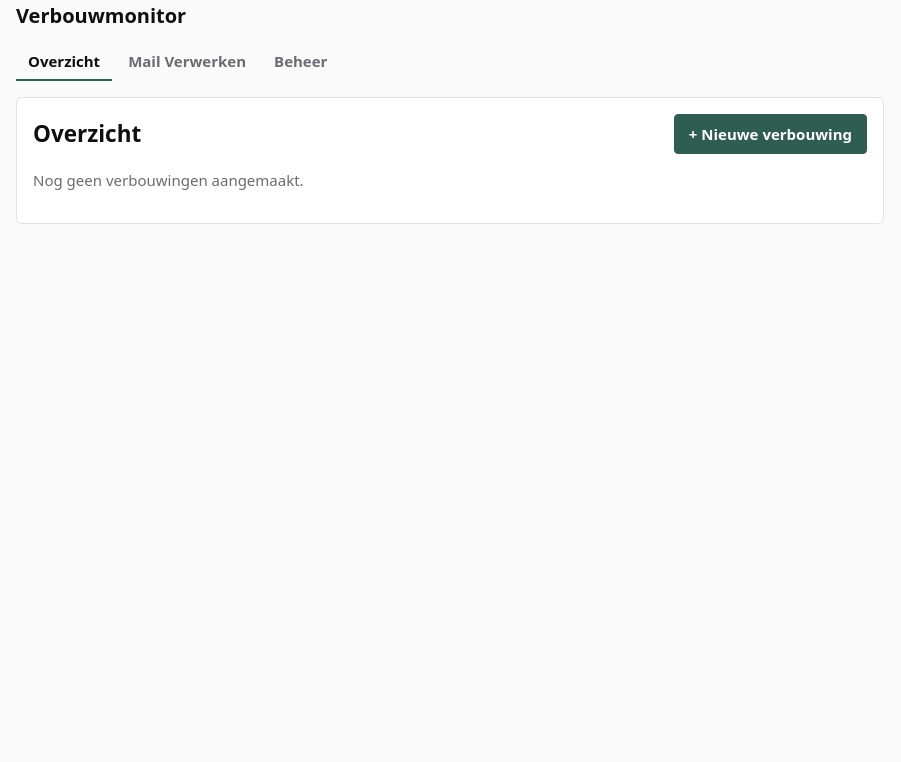
Scenario: App — polish: verwijderen in Beheer vraagt eerst bevestiging › annuleren laat de activiteit staan; bevestigen verwijdert hem echt
The width and height of the screenshot is (901, 762).
Click the button "beheer".
click(301, 63)  # box [262,44,339,81]
(page scrolled)
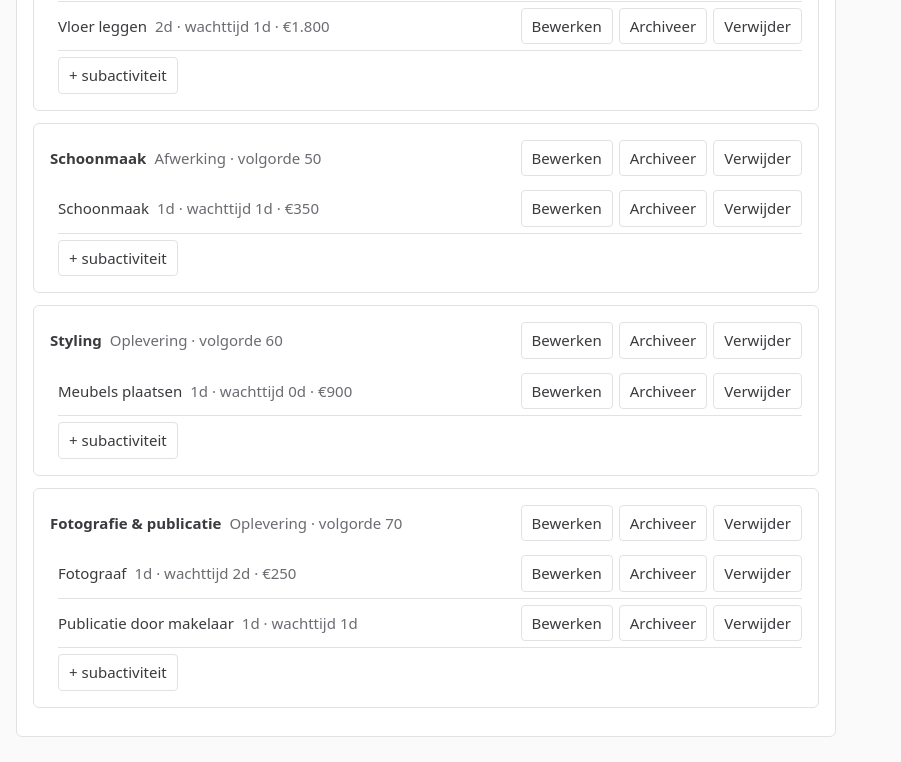
Click the button "Verwijder" in the row of "· €900".
click(758, 391)  # box [713,373,802,409]
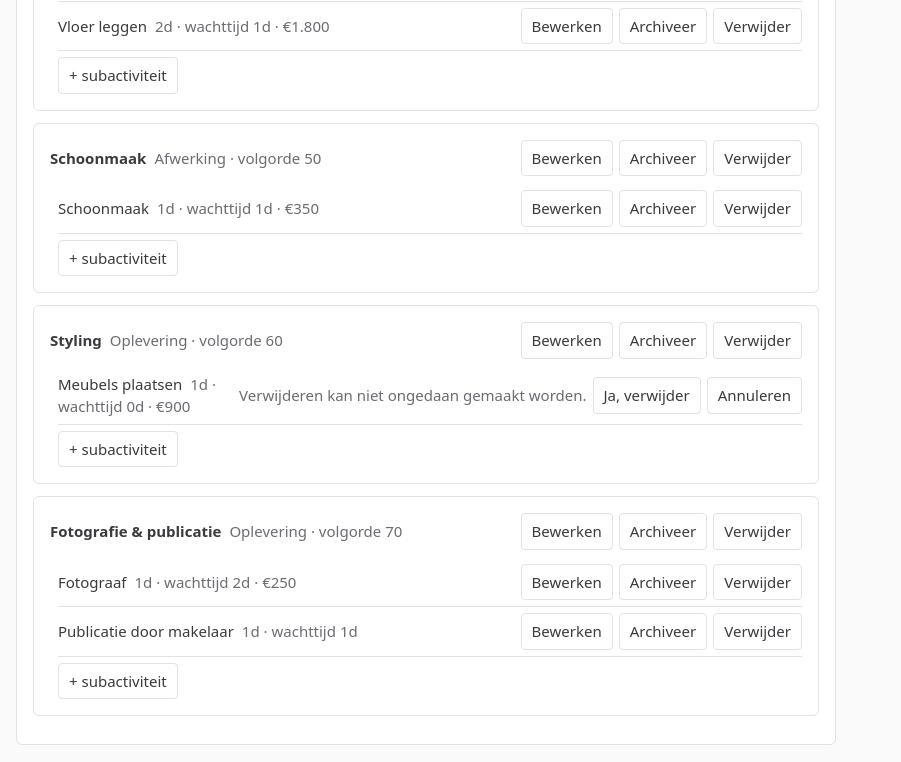
Now the text "Verwijderen kan niet ongedaan gemaakt worden." is shown, box [239,384,586,407]
Click the button "Annuleren".
click(754, 395)  # box [707,377,802,414]
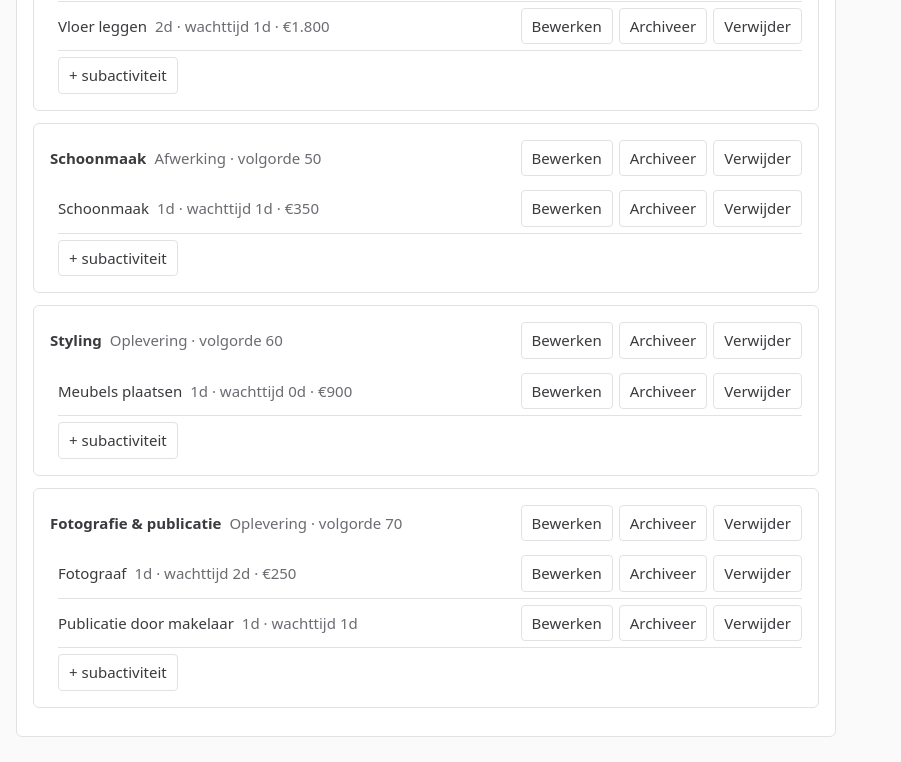
Now the text "Meubels plaatsen" is shown, box [58,381,182,401]
Click the button "Verwijder" in the row of "· €900".
click(758, 391)  # box [713,373,802,409]
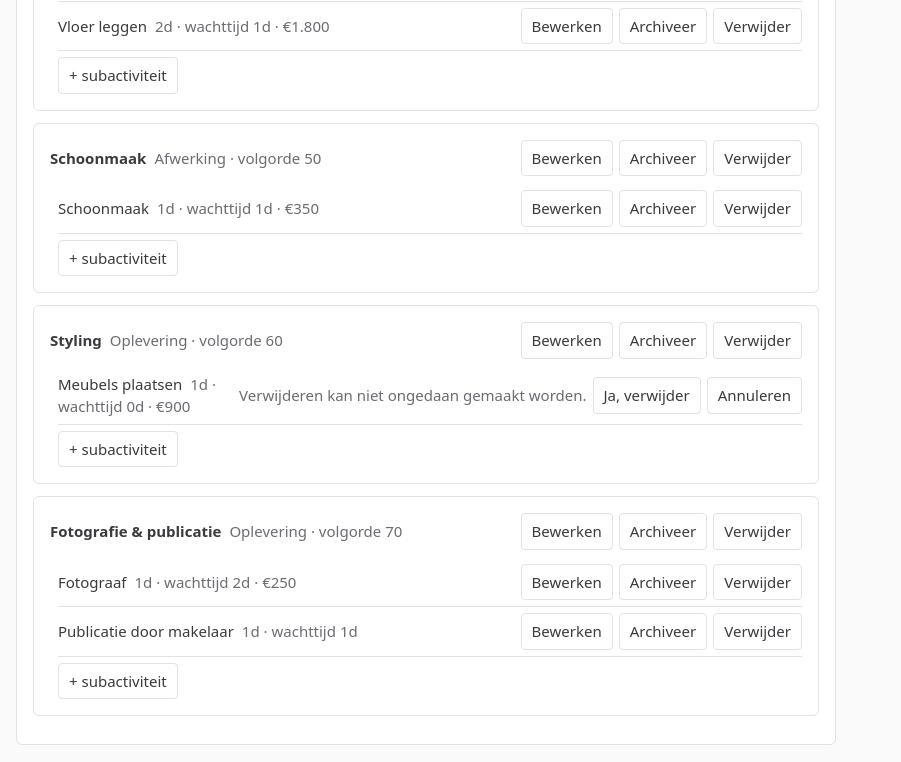
Click the button "Ja, verwijder".
click(647, 395)  # box [592,377,701,414]
(page scrolled)
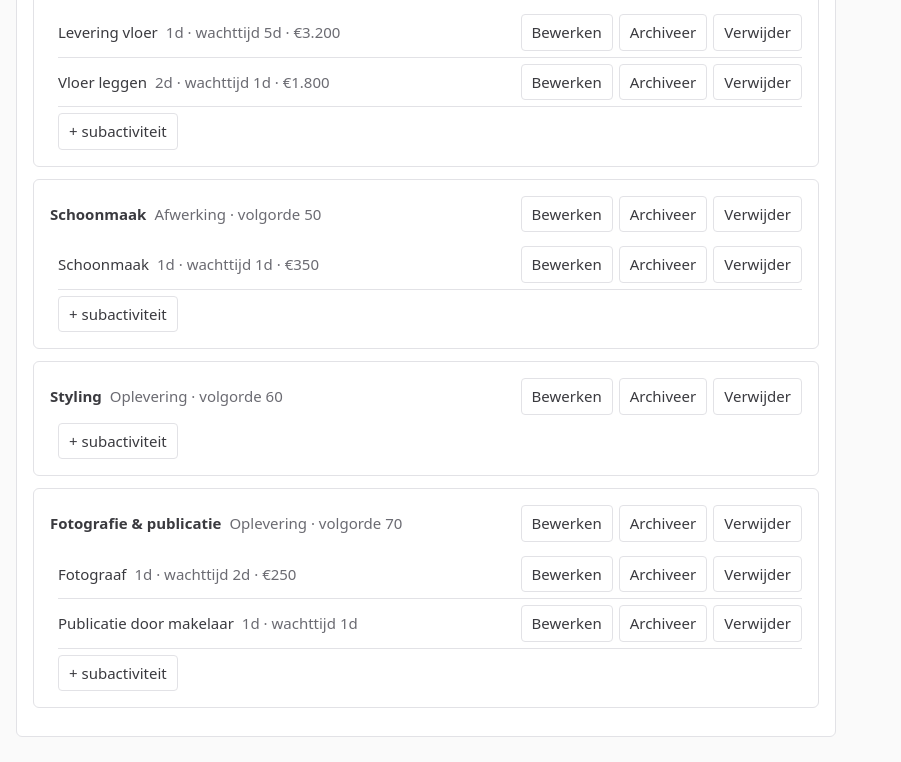
Now the text "Meubels plaatsen" is gone
